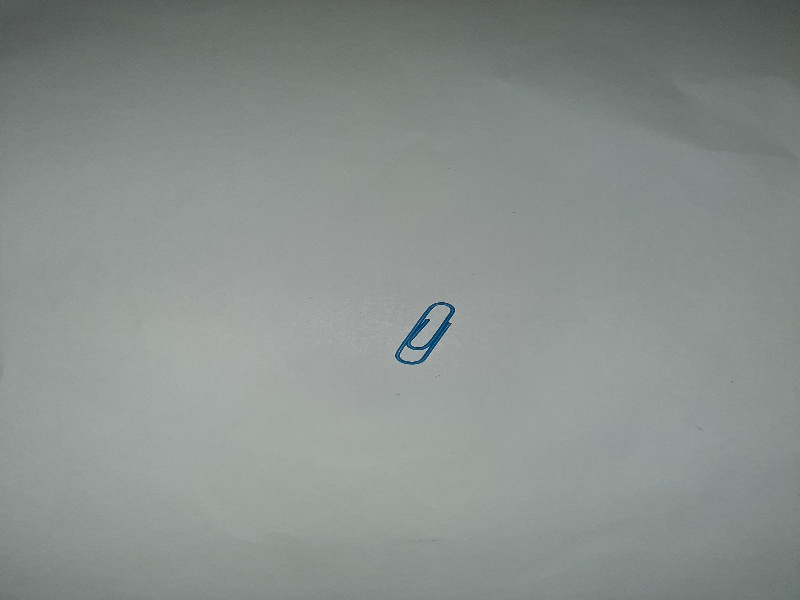Small Jumpclip: (393, 297, 462, 372)
